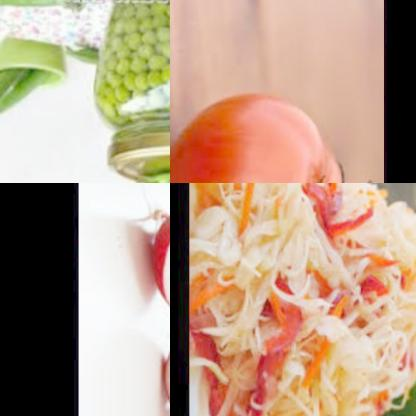cabbage: (191, 183, 341, 282), (296, 315, 414, 416), (347, 183, 416, 274), (216, 272, 276, 352), (398, 267, 416, 366)
carrot: (253, 285, 304, 416), (241, 183, 266, 232)
hot pepper: (299, 183, 375, 248), (193, 325, 232, 409), (363, 276, 393, 300)
peas: (93, 0, 170, 145), (0, 60, 59, 141), (63, 39, 104, 74)
tomato: (170, 84, 351, 183)
